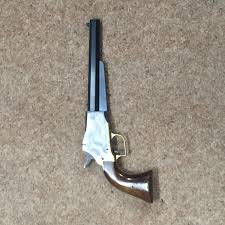gun: (80, 13, 158, 212)
